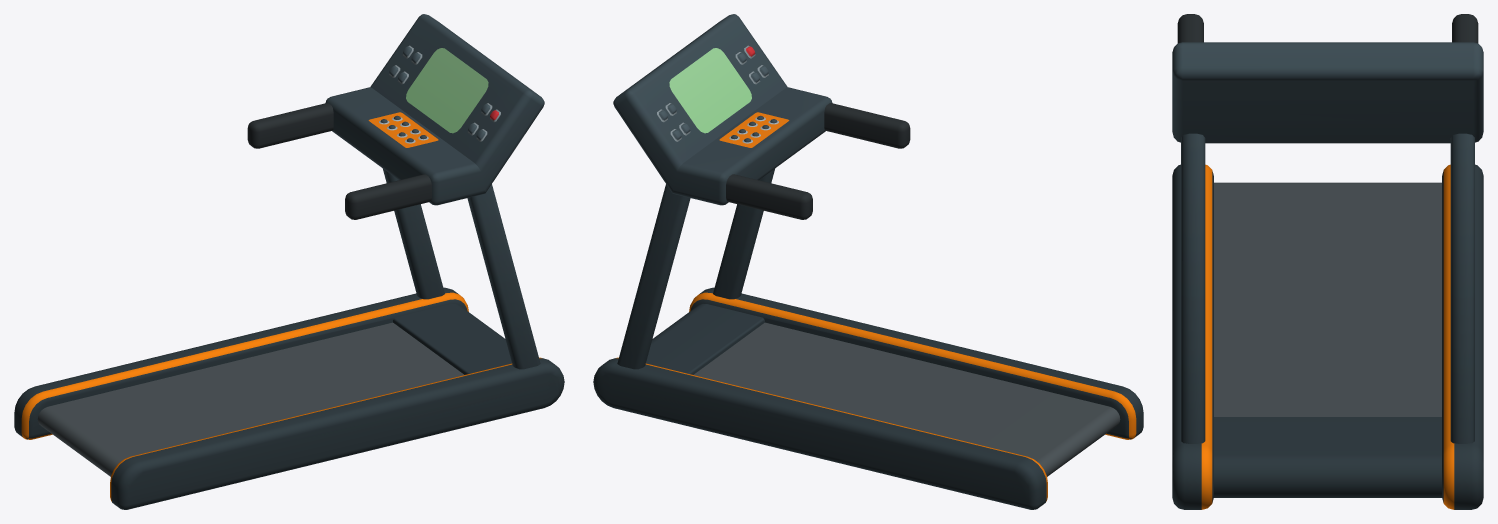
File: Treadmill_01.glb
3 renders of one model, left to right at view 1: azimuth 30°, elevation 25°; view 2: azimuth 150°, elevation 25°; view 3: azimuth 270°, elevation 25°, orthographic. The views are drawn at different scales.
Visible parts, largest first — view 1: Treadmill_01; view 2: Treadmill_01; view 3: Treadmill_01.
Part boxes in pixels (box(x1,y1,x2,y2)): Treadmill_01: box(14, 14, 564, 509); Treadmill_01: box(593, 14, 1143, 509); Treadmill_01: box(1172, 14, 1483, 509).
Bounding box in the file's own units: 2.1 × 1.45 × 0.9.
1 material, 1 textured.
